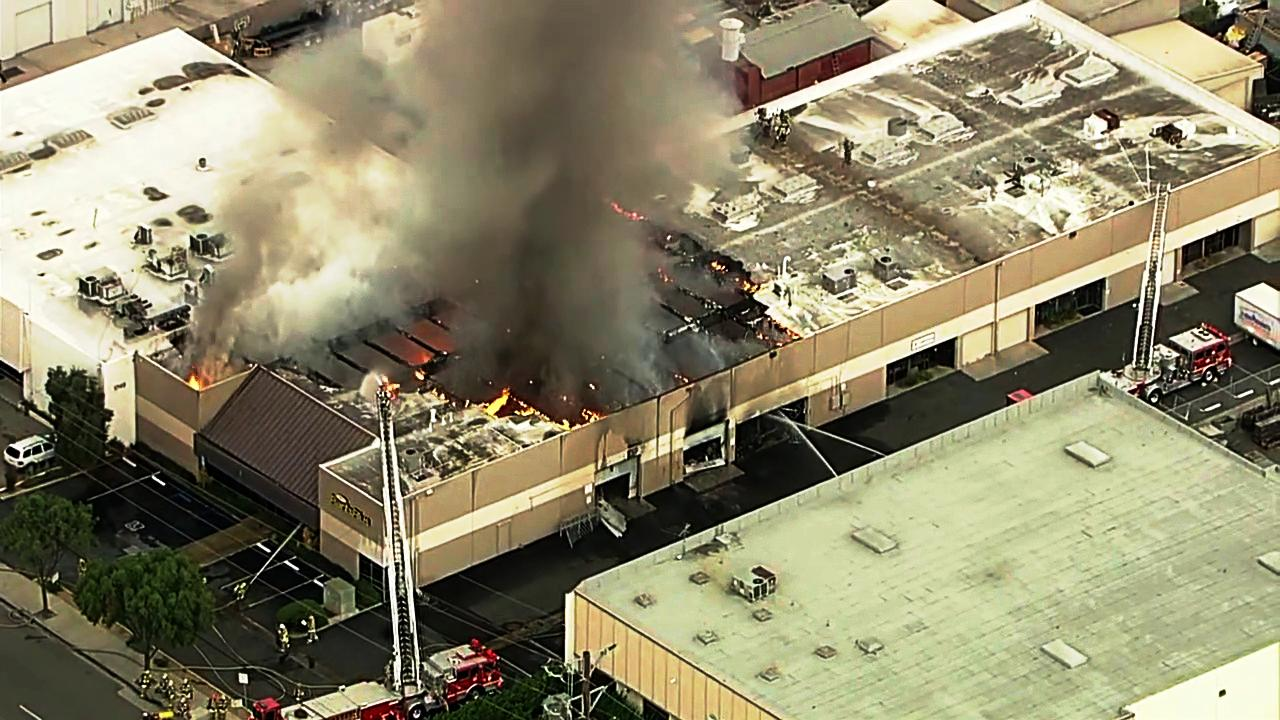smoke: (499, 0, 675, 355)
